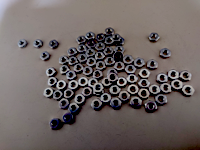nut: (183, 85, 196, 97), (180, 70, 192, 82), (119, 91, 131, 103), (91, 99, 103, 111), (150, 85, 162, 96), (69, 103, 80, 115), (146, 101, 157, 113), (127, 74, 139, 85), (110, 85, 122, 96), (156, 73, 169, 83), (64, 112, 74, 125), (172, 80, 183, 91), (161, 83, 172, 94), (50, 119, 61, 130), (131, 98, 142, 109), (111, 99, 122, 110), (59, 99, 70, 110), (53, 91, 64, 102), (160, 49, 172, 59), (168, 70, 180, 80), (147, 60, 159, 70), (156, 95, 168, 105), (139, 79, 151, 89), (139, 69, 151, 79), (93, 83, 105, 93), (101, 93, 111, 105), (149, 33, 160, 43), (49, 40, 60, 50), (33, 39, 44, 49), (40, 51, 51, 61), (117, 77, 128, 87), (44, 88, 54, 99), (66, 71, 77, 81), (128, 85, 139, 95), (140, 89, 150, 100), (126, 65, 137, 75), (102, 77, 113, 87), (108, 68, 119, 78), (75, 95, 86, 105), (78, 78, 89, 88), (68, 80, 78, 91), (58, 56, 69, 66), (59, 65, 70, 75), (18, 39, 28, 49), (135, 58, 145, 68), (64, 89, 74, 99), (96, 61, 106, 71), (57, 80, 67, 90), (124, 55, 134, 65), (83, 67, 93, 77), (115, 62, 125, 72), (93, 70, 103, 80), (88, 79, 98, 89), (86, 48, 96, 58), (68, 48, 79, 57), (93, 87, 104, 96), (76, 36, 87, 45), (74, 64, 85, 73), (46, 68, 56, 77), (106, 57, 116, 66), (83, 88, 93, 97), (78, 54, 88, 63), (78, 44, 87, 54), (47, 78, 58, 86), (114, 46, 125, 54), (105, 47, 114, 56), (87, 58, 96, 67), (115, 52, 124, 61), (97, 33, 106, 42), (105, 36, 114, 45), (112, 34, 121, 43), (116, 37, 125, 46), (69, 57, 78, 66), (105, 28, 115, 36), (96, 43, 106, 51), (109, 73, 119, 81), (96, 52, 106, 60), (86, 32, 95, 40), (88, 40, 96, 48)
